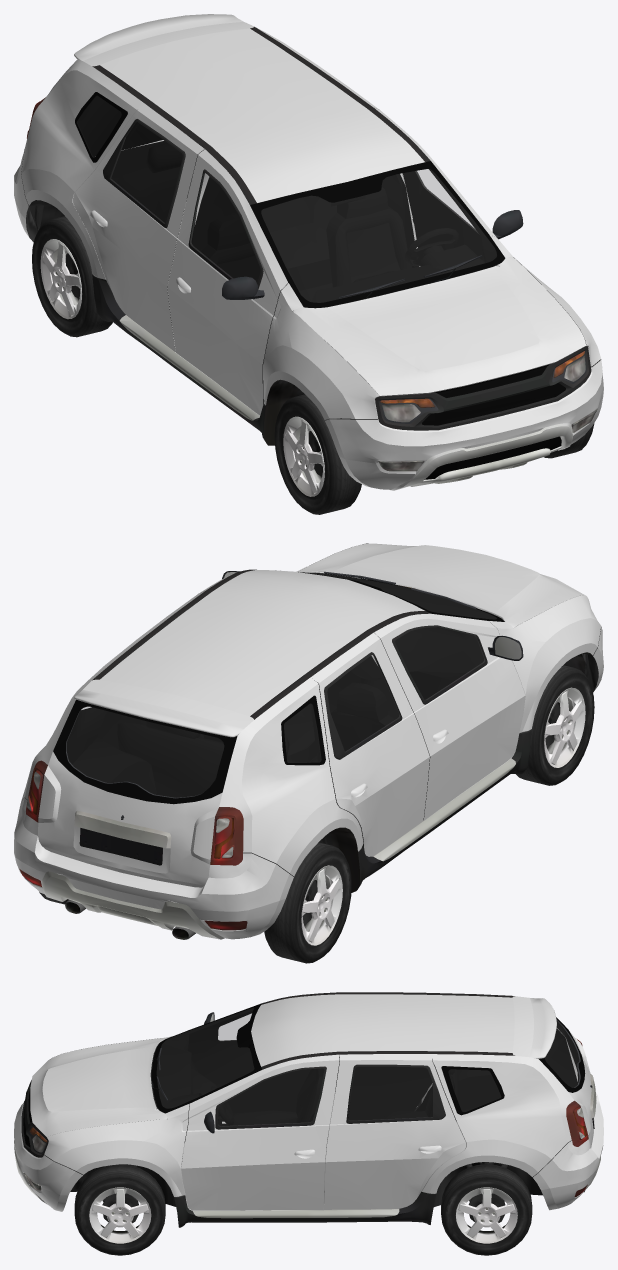
The model's file is traffic_suv_compact.glb.
3 views of the same model, one above another, from view 1: azimuth 30°, elevation 25°; view 2: azimuth 150°, elevation 25°; view 3: azimuth 270°, elevation 25° (orthographic). The views are drawn at different scales.
Visible parts, largest first — view 1: body, wheel_fr_mesh, wheel_rr_mesh; view 2: body, wheel_rr_mesh, wheel_fr_mesh; view 3: body, wheel_rl_mesh, wheel_fl_mesh.
Part boxes in pixels (x1,y1,x2,y2): body: (14, 14, 603, 490); wheel_fr_mesh: (274, 394, 361, 514); wheel_rr_mesh: (32, 216, 112, 337); body: (14, 543, 603, 939); wheel_rr_mesh: (264, 842, 351, 963); wheel_fr_mesh: (516, 665, 594, 785); body: (14, 992, 603, 1227); wheel_rl_mesh: (441, 1164, 532, 1255); wheel_fl_mesh: (74, 1164, 165, 1255).
Size of the model in its own units: 1.93 by 1.54 by 4.35.
11 materials, 6 textured.
